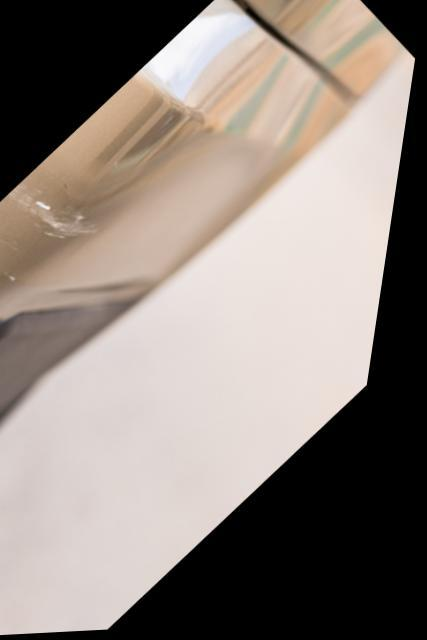scratch: (11, 179, 110, 242)
